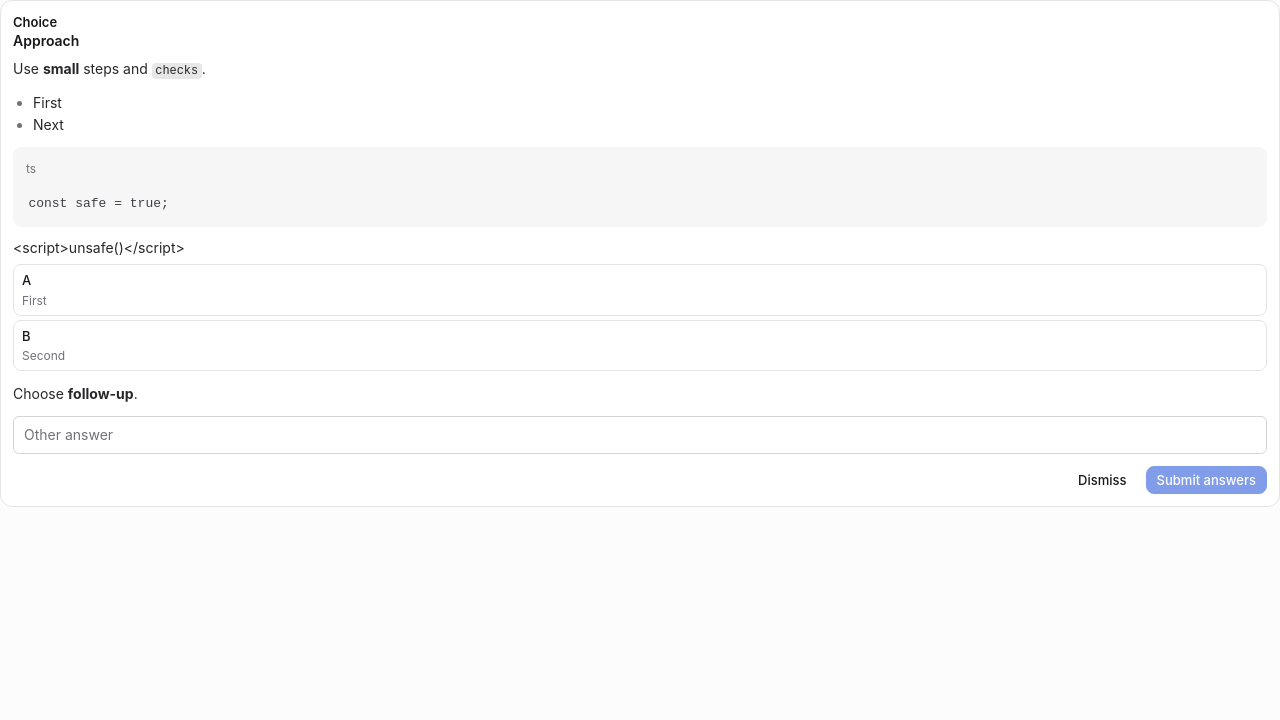
it: keeps picks and a custom answer after a failed submission
This screenshot has width=1280, height=720.
Click the button "A First".
click(27, 280)  # box [13,264,1267,316]
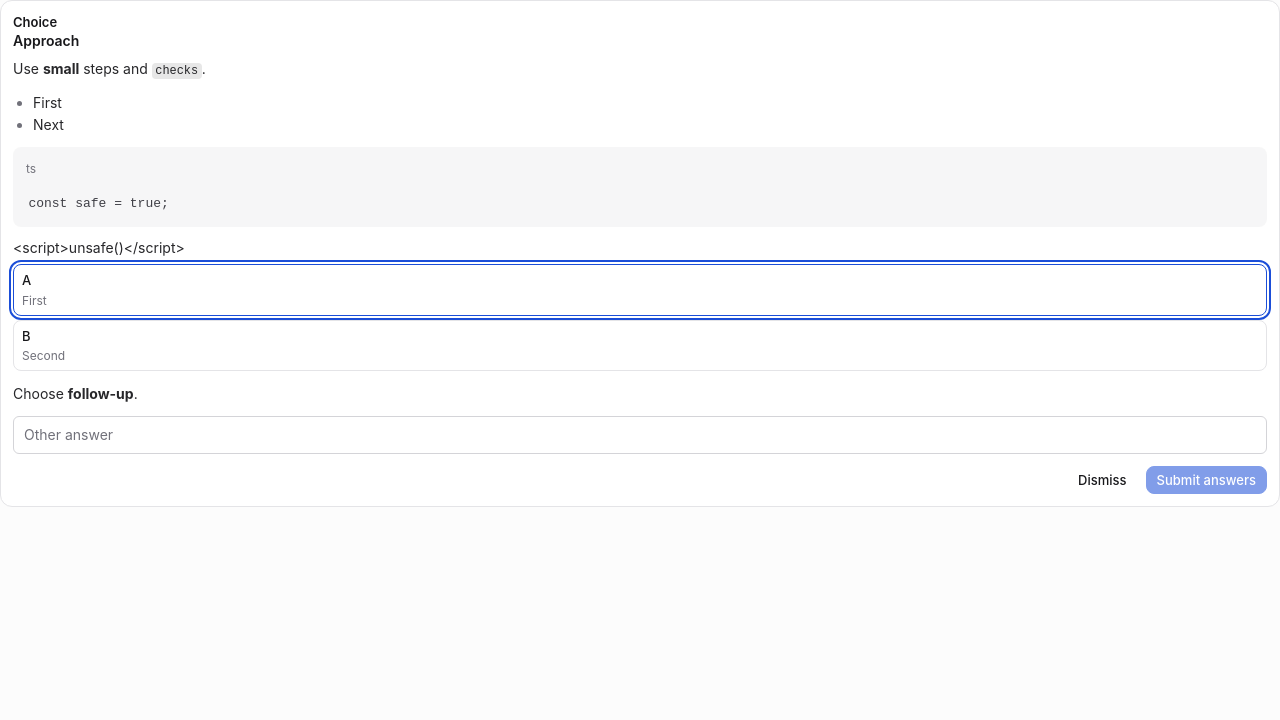
Type "Custom" into the field.
click(640, 435); type("Custom")  # box [13,416,1267,454]
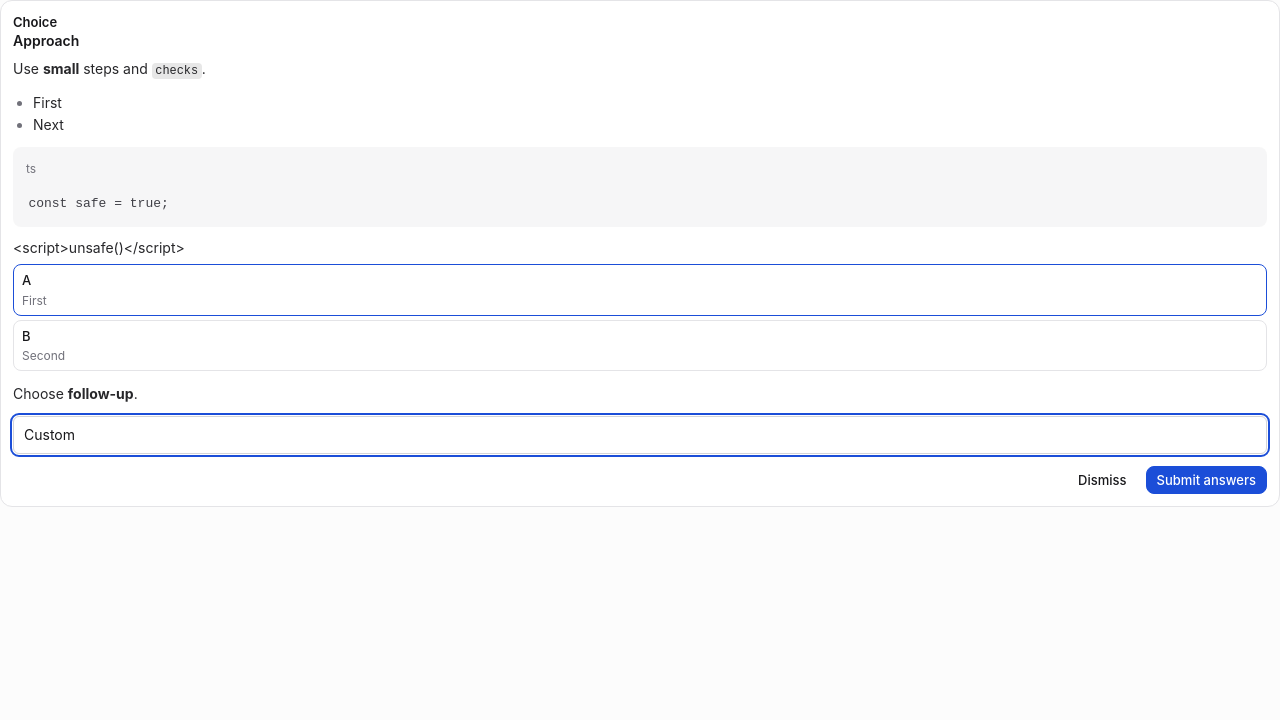
Click the button "Submit answers".
click(1206, 480)  # box [1146,466,1267,494]
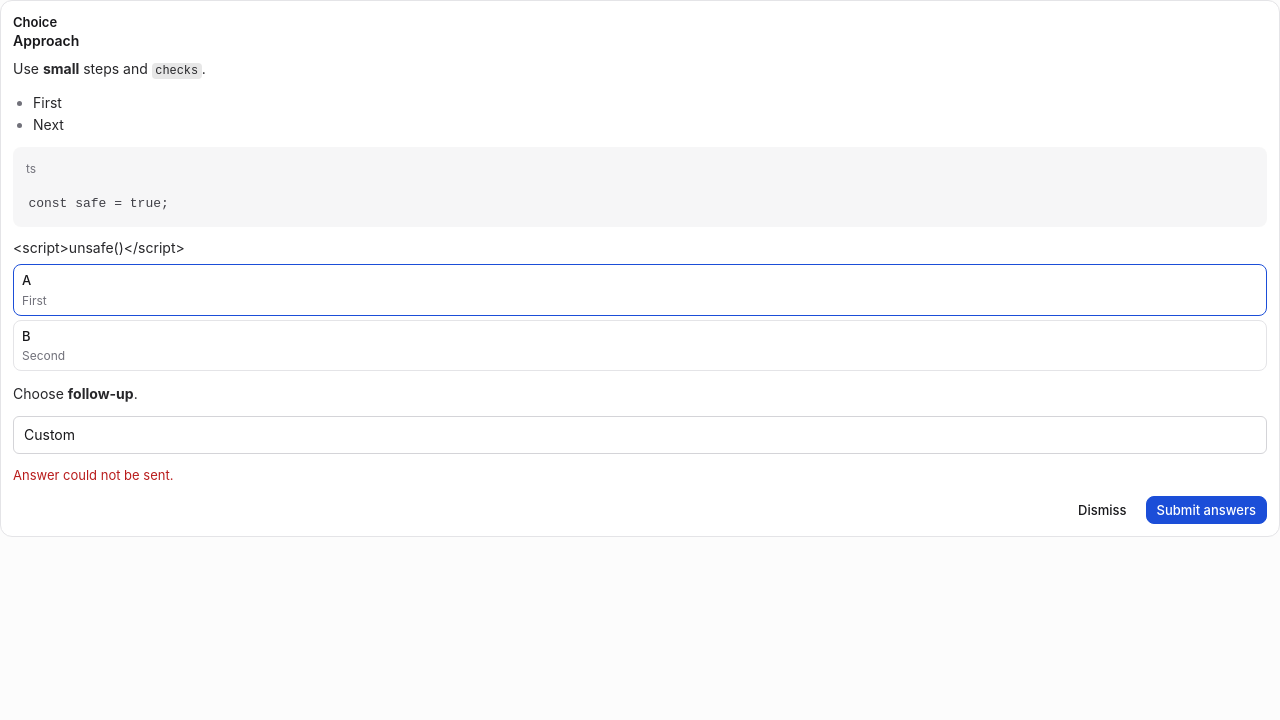
Check: the button "Submit answers" is enabled, box [1146,496,1267,524]
Check: the message reads "Answer could not be sent.", box [13,467,173,483]
